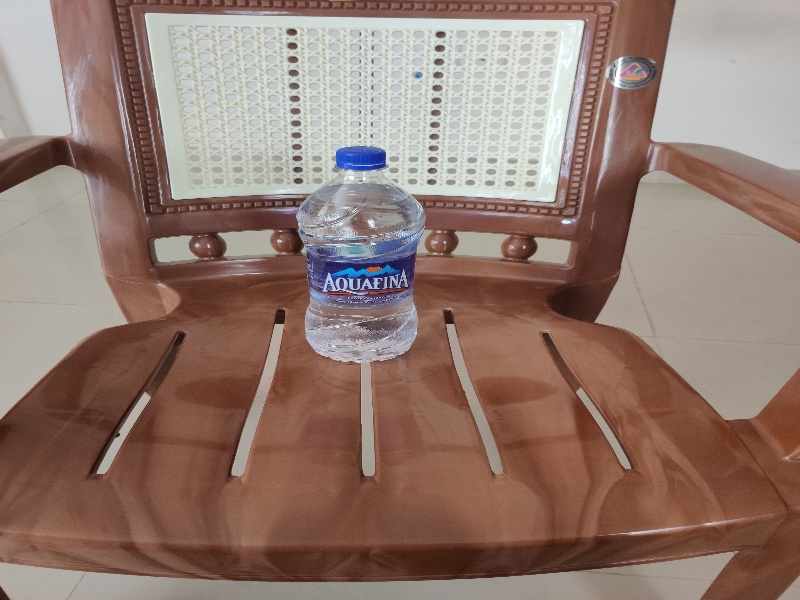bottle: (289, 141, 437, 366)
